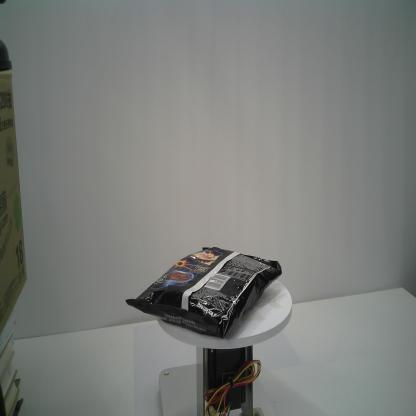Instant Noodles: (126, 244, 284, 339)
